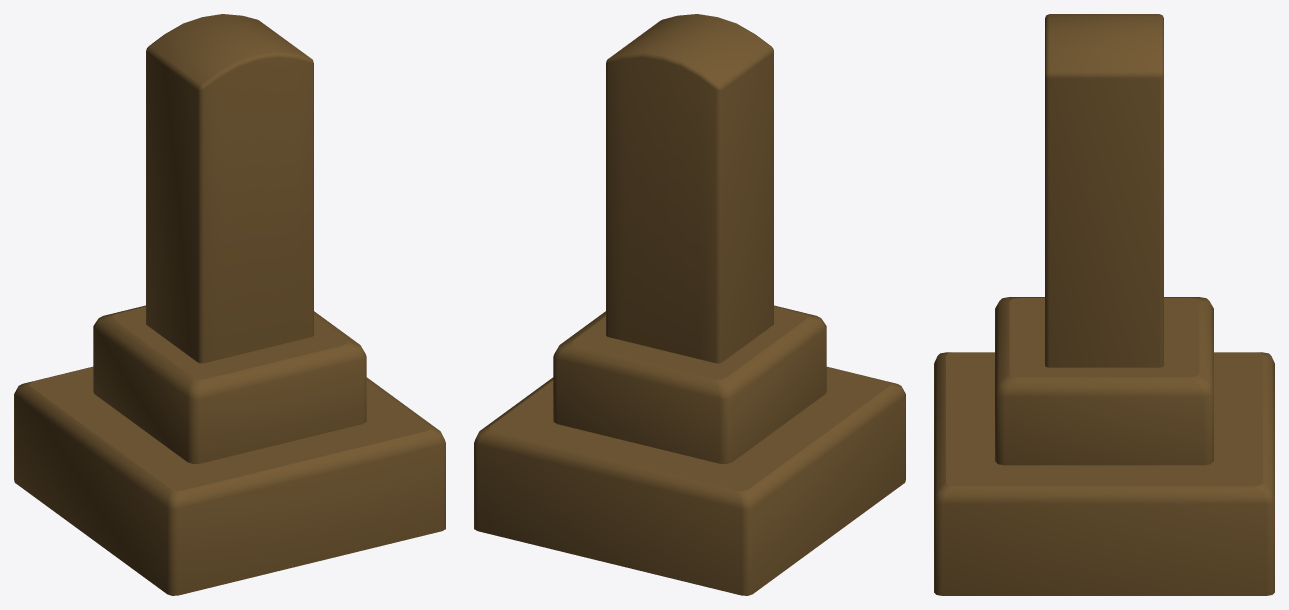
Rendered from LapideMedia.fbx.
3 renders of one model, left to right at view 1: azimuth 30°, elevation 25°; view 2: azimuth 150°, elevation 25°; view 3: azimuth 270°, elevation 25°, orthographic. The views are drawn at different scales.
Visible parts, largest first — view 1: LapideMedia_LOD0; view 2: LapideMedia_LOD0; view 3: LapideMedia_LOD0.
Part boxes in pixels (x1=…): LapideMedia_LOD0: x1=14, y1=14, x2=445, y2=595; LapideMedia_LOD0: x1=474, y1=14, x2=905, y2=595; LapideMedia_LOD0: x1=934, y1=14, x2=1274, y2=595.
Size of what is drawn, in the model's own units: 51.02 by 82.32 by 51.02.
